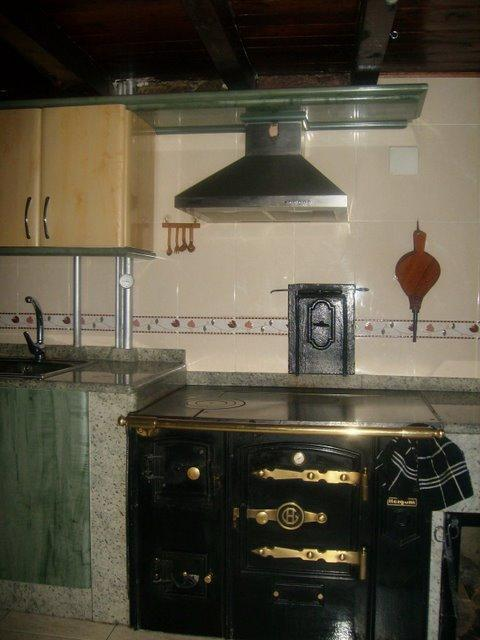Electrodomestico: (136, 408, 425, 633)
Lavaplatos: (5, 295, 98, 392)
